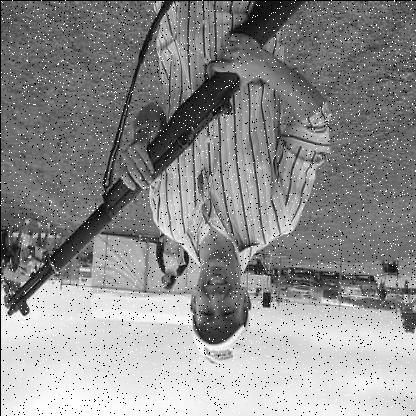rifle: (2, 1, 325, 321)
